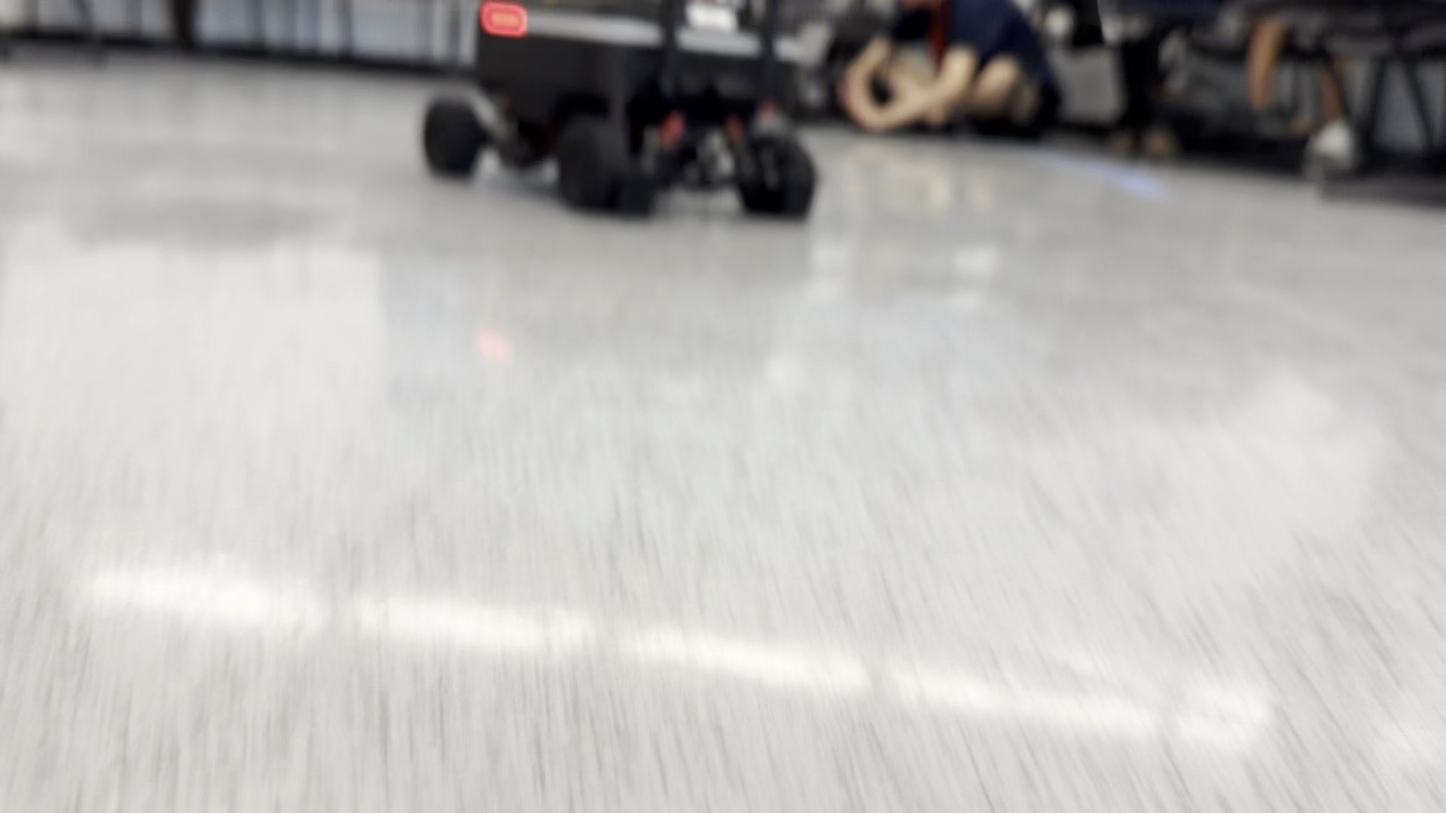racecar: (427, 0, 816, 220)
